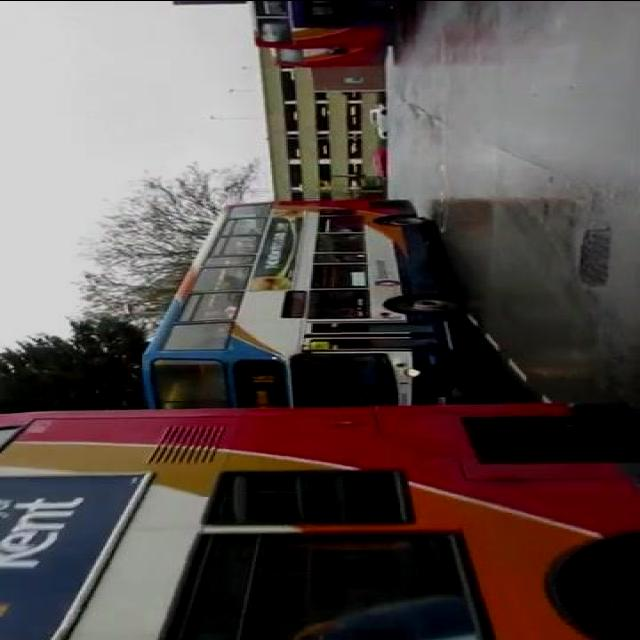bus: (3, 397, 639, 640), (137, 196, 467, 416), (250, 48, 388, 68), (296, 3, 401, 28), (256, 29, 394, 48)
